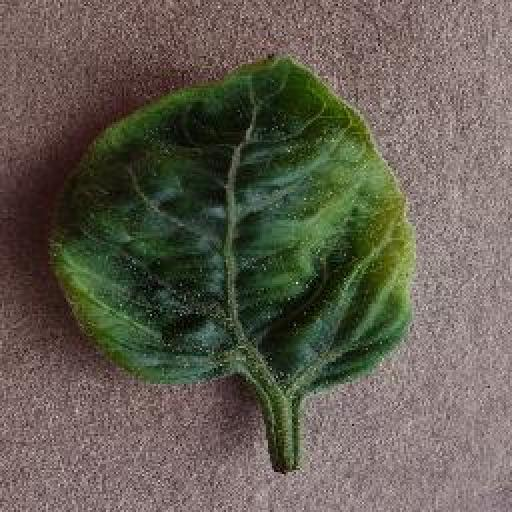Yellow Leaf Curl Virus: (48, 54, 415, 390)
